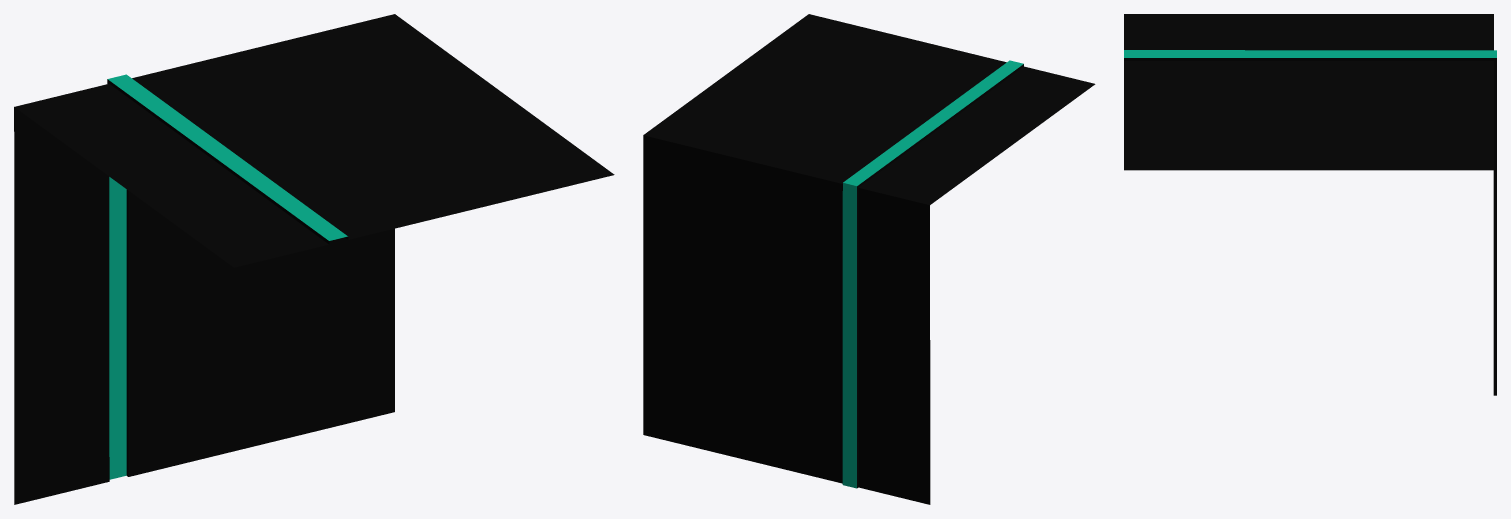
File: tron_corner.FBX
The picture shows the model from 3 angles, left to right: view 1: azimuth 30°, elevation 25°; view 2: azimuth 150°, elevation 25°; view 3: azimuth 270°, elevation 25°; orthographic projection. The views are drawn at different scales.
Parts seen in each view (by area): view 1: tron_corner; view 2: tron_corner; view 3: tron_corner.
Part boxes in pixels (<box>): tron_corner: <box>14,14,614,504</box>; tron_corner: <box>643,14,1095,504</box>; tron_corner: <box>1124,14,1496,395</box>.
Bounding box in the file's own units: 8 × 8.06 × 8.07.
